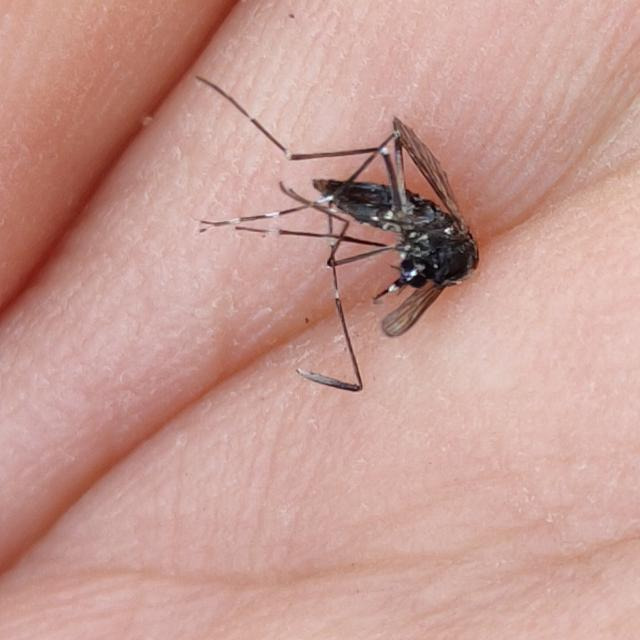albopictus: (178, 62, 482, 409)
